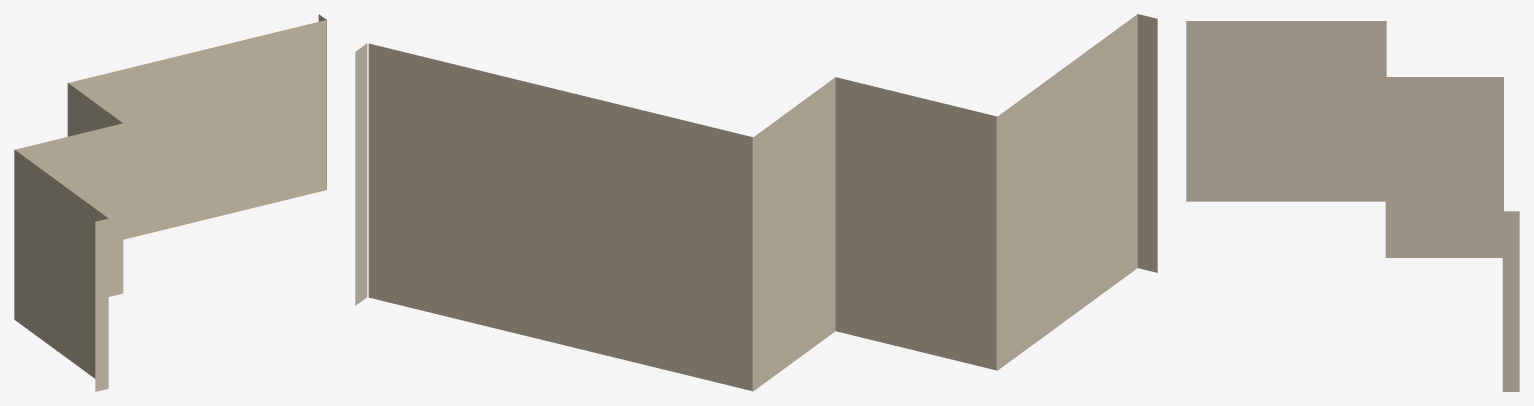
The model's file is banner-model-d3d77756e346.glb.
The picture shows the model from 3 angles, left to right: view 1: azimuth 30°, elevation 25°; view 2: azimuth 150°, elevation 25°; view 3: azimuth 270°, elevation 25°; orthographic projection. The views are drawn at different scales.
Visible parts, largest first — view 1: Б-1 · Задняя стена 4754 × 3000 мм, Б-2 · Левая стена 3016 × 3000 мм, Б-3 · Подсобка, стена с полками 2000 × 3000 мм, Б-7 · Левый торец 246 × 3000 мм, Б-4 · Подсобка, стена с проёмом 1776 × 3000 мм; view 2: Б-1 · Задняя стена 4754 × 3000 мм, Б-3 · Подсобка, стена с полками 2000 × 3000 мм, Б-2 · Левая стена 3016 × 3000 мм, Б-4 · Подсобка, стена с проёмом 1776 × 3000 мм, Б-5 · Дверь 840 × 2040 мм, Б-7 · Левый торец 246 × 3000 мм, Б-6 · Правый торец 256 × 3000 мм; view 3: Б-2 · Левая стена 3016 × 3000 мм, Б-4 · Подсобка, стена с проёмом 1776 × 3000 мм, Б-5 · Дверь 840 × 2040 мм, Б-6 · Правый торец 256 × 3000 мм.
Boxes of the visible parts, bbox=[...] form: Б-1 · Задняя стена 4754 × 3000 мм: bbox=[68, 20, 325, 239]; Б-2 · Левая стена 3016 × 3000 мм: bbox=[14, 149, 108, 378]; Б-3 · Подсобка, стена с полками 2000 × 3000 мм: bbox=[15, 123, 123, 296]; Б-7 · Левый торец 246 × 3000 мм: bbox=[95, 218, 108, 391]; Б-4 · Подсобка, стена с проёмом 1776 × 3000 мм: bbox=[67, 83, 122, 136]; Б-1 · Задняя стена 4754 × 3000 мм: bbox=[368, 43, 752, 390]; Б-3 · Подсобка, стена с полками 2000 × 3000 мм: bbox=[835, 77, 996, 370]; Б-2 · Левая стена 3016 × 3000 мм: bbox=[996, 14, 1137, 370]; Б-4 · Подсобка, стена с проёмом 1776 × 3000 мм: bbox=[752, 77, 835, 391]; Б-5 · Дверь 840 × 2040 мм: bbox=[771, 177, 810, 377]; Б-7 · Левый торец 246 × 3000 мм: bbox=[1137, 14, 1157, 272]; Б-6 · Правый торец 256 × 3000 мм: bbox=[355, 43, 367, 305]; Б-2 · Левая стена 3016 × 3000 мм: bbox=[1186, 21, 1386, 201]; Б-4 · Подсобка, стена с проёмом 1776 × 3000 мм: bbox=[1385, 77, 1503, 257]; Б-5 · Дверь 840 × 2040 мм: bbox=[1421, 135, 1477, 257]; Б-6 · Правый торец 256 × 3000 мм: bbox=[1502, 211, 1519, 391].
Size of the model in its own units: 7.02 by 3 by 5.02.
